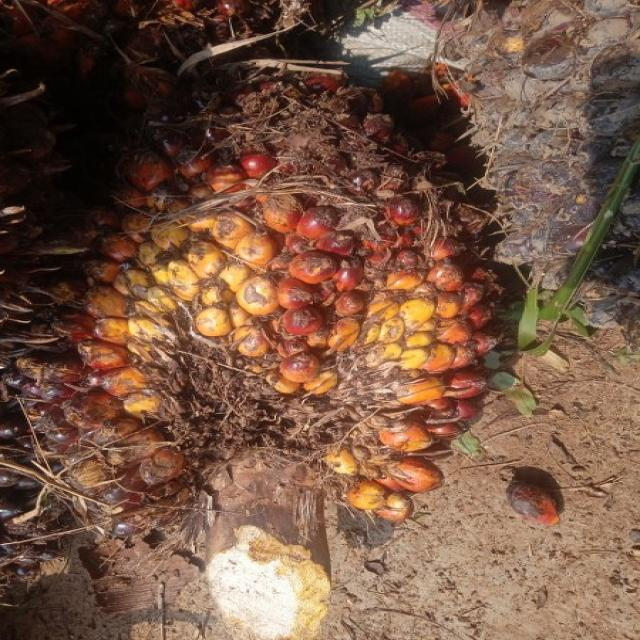fraksi 3: (8, 47, 567, 581)
